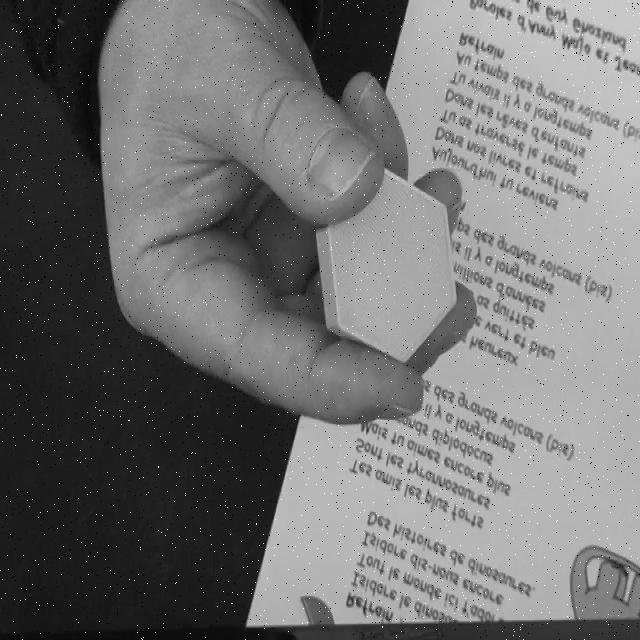hexagon: (314, 164, 458, 363)
